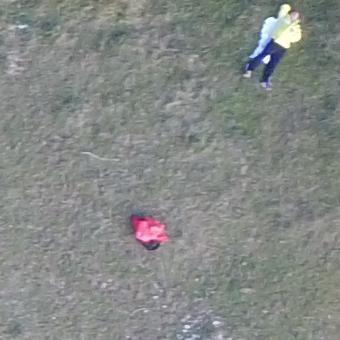human: (239, 0, 307, 92)
